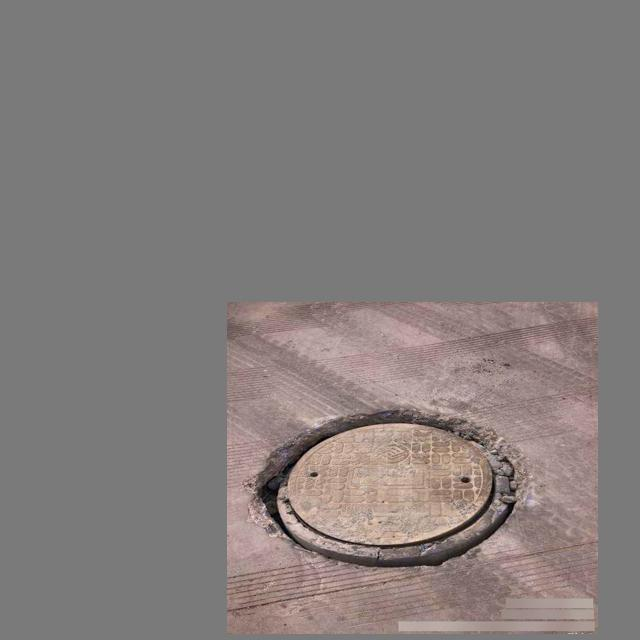circle: (259, 410, 524, 571)
